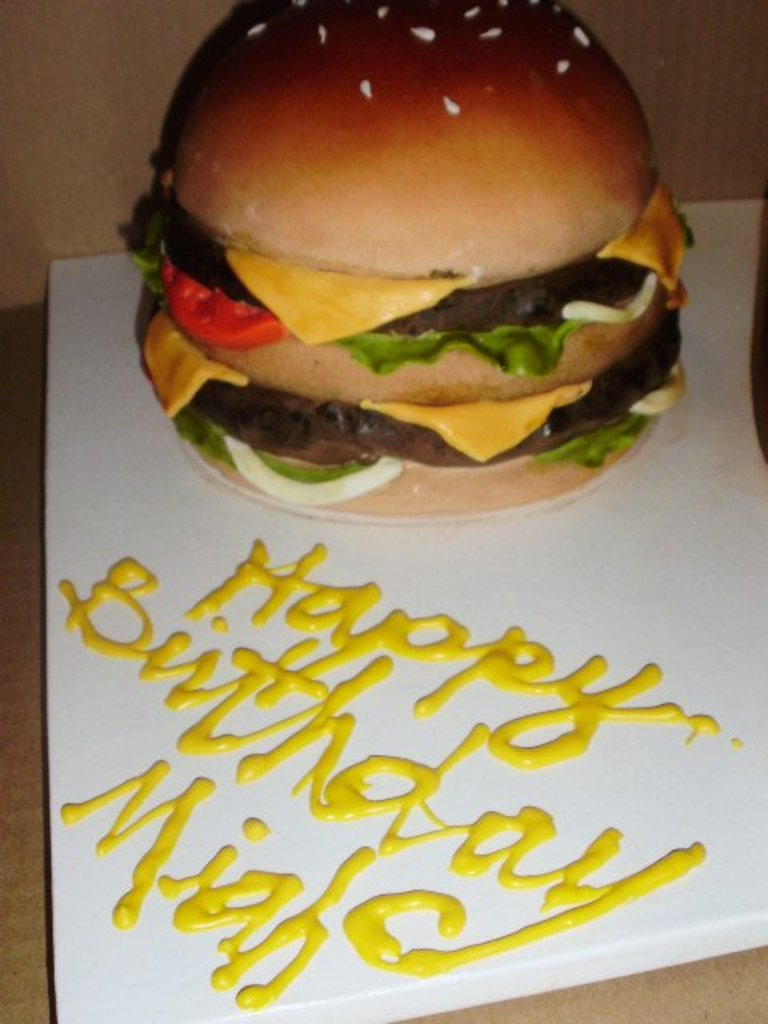Hamburger: (123, 0, 699, 518)
